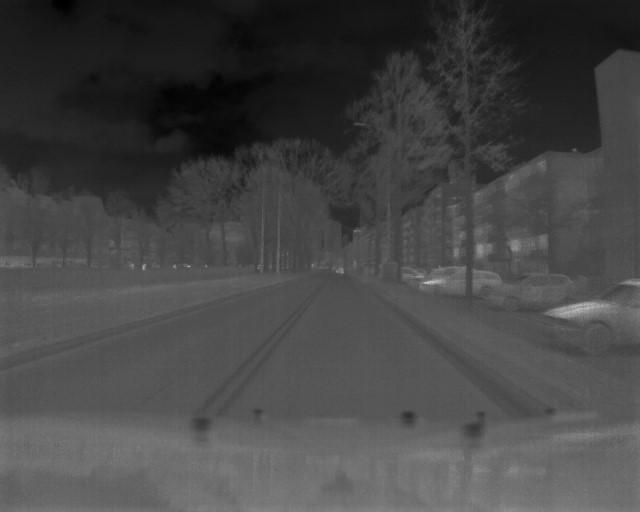car: (486, 273, 577, 313), (417, 270, 504, 300)
